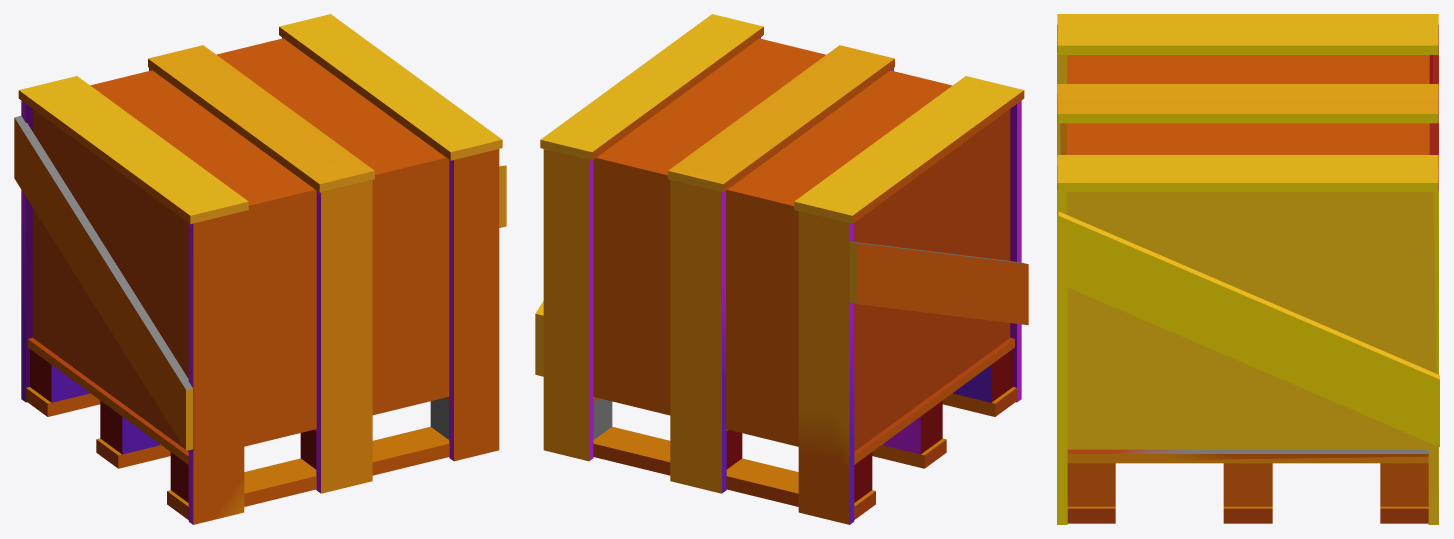
Rendered from 3d_wooden_box.fbx.
3 views of the same model, side by side, from view 1: azimuth 30°, elevation 25°; view 2: azimuth 150°, elevation 25°; view 3: azimuth 270°, elevation 25° (orthographic). The views are drawn at different scales.
Parts seen in each view (by area): view 1: GEO_Wooden_Box; view 2: GEO_Wooden_Box; view 3: GEO_Wooden_Box.
Boxes of the visible parts, box(x1,y1,x2,y2) form: GEO_Wooden_Box: box(14, 14, 506, 524); GEO_Wooden_Box: box(535, 14, 1028, 524); GEO_Wooden_Box: box(1057, 14, 1439, 524).
Size of the model in its own units: 1.26 by 1.17 by 1.16.
